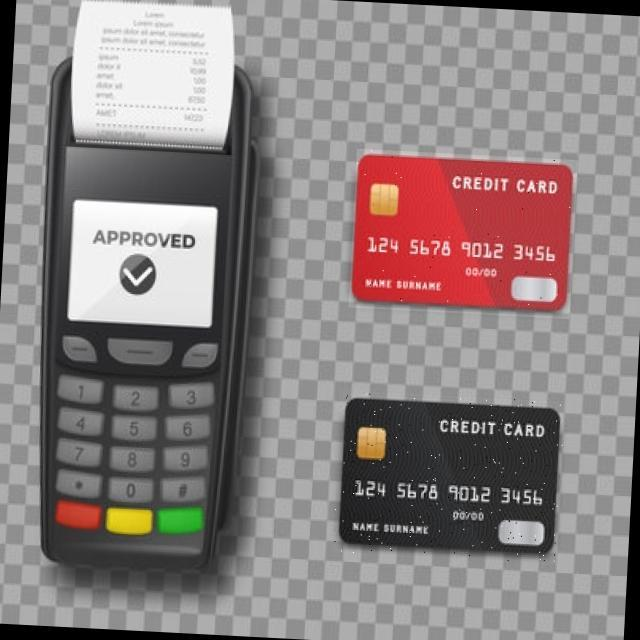payment_card: (350, 152, 573, 312), (339, 393, 556, 550)
